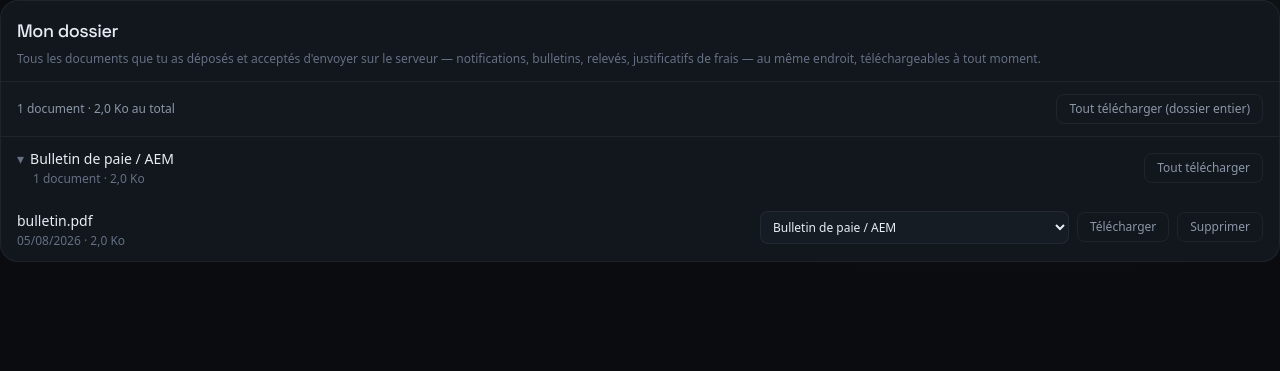
Test: MonDossier — supprimer un document (07/08/2026) › un seul clic ne supprime rien : demande d'abord confirmation
The image size is (1280, 371).
Click the button with aria-label "supprimer « bulletin.pdf »". click: (1220, 227)
box: [1177, 212, 1263, 242]
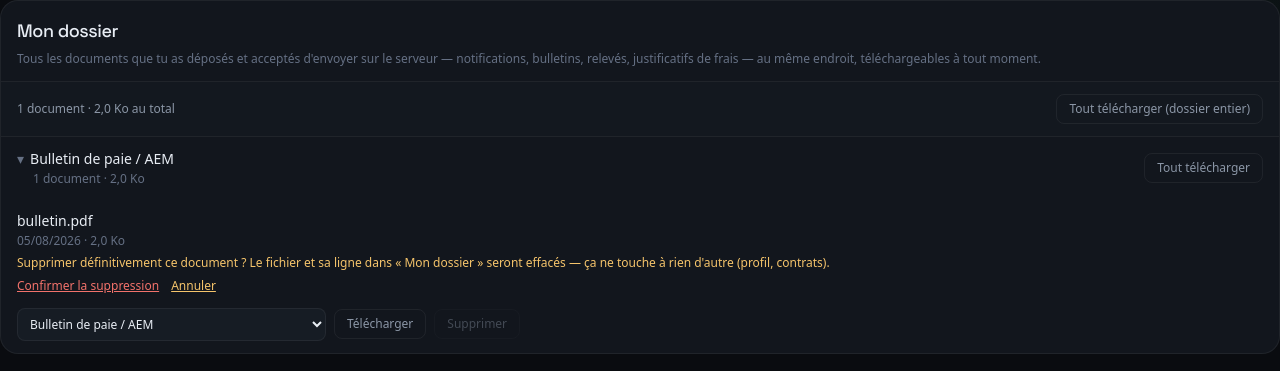
Expected: the text "bulletin.pdf" is shown, [17, 210, 92, 230]
Expected: the message shows "Supprimer définitivement ce document", [17, 254, 830, 270]
